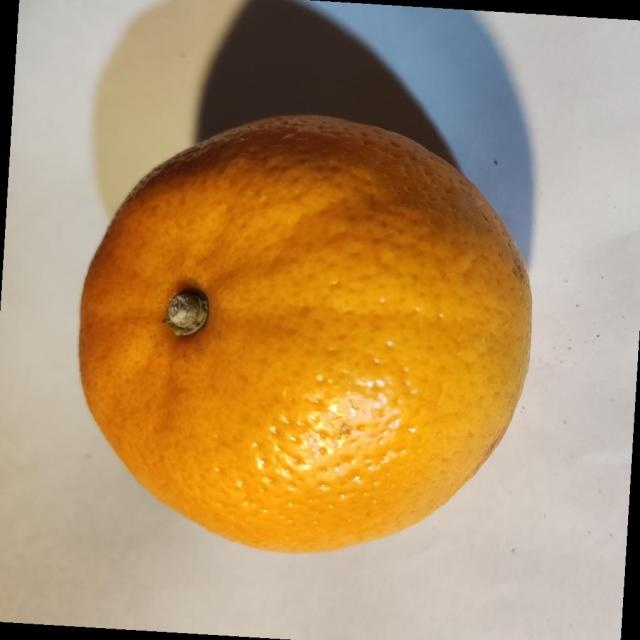agrume: (78, 112, 534, 554)
